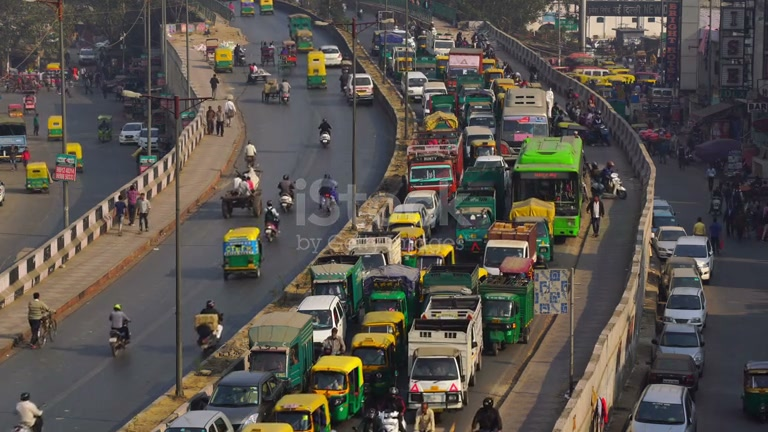bus: (406, 288, 484, 387), (512, 135, 583, 240), (244, 307, 316, 393), (304, 355, 365, 423), (497, 85, 549, 156), (509, 197, 555, 263), (444, 48, 485, 93)
car: (205, 370, 288, 428), (408, 351, 469, 411), (629, 382, 698, 432), (294, 293, 347, 357), (652, 323, 706, 377), (265, 392, 334, 432), (221, 225, 264, 280), (662, 282, 708, 331), (656, 256, 706, 300), (671, 236, 716, 283), (648, 352, 702, 391), (160, 409, 237, 432), (650, 225, 688, 261), (339, 73, 376, 105), (118, 122, 145, 145), (319, 45, 343, 67)
pedestrian: (27, 292, 51, 347), (13, 392, 43, 432), (470, 397, 503, 432), (109, 302, 131, 342), (414, 400, 435, 432), (136, 193, 151, 233), (692, 217, 706, 237)
truck: (244, 307, 316, 392), (741, 360, 768, 420), (288, 13, 315, 49)
